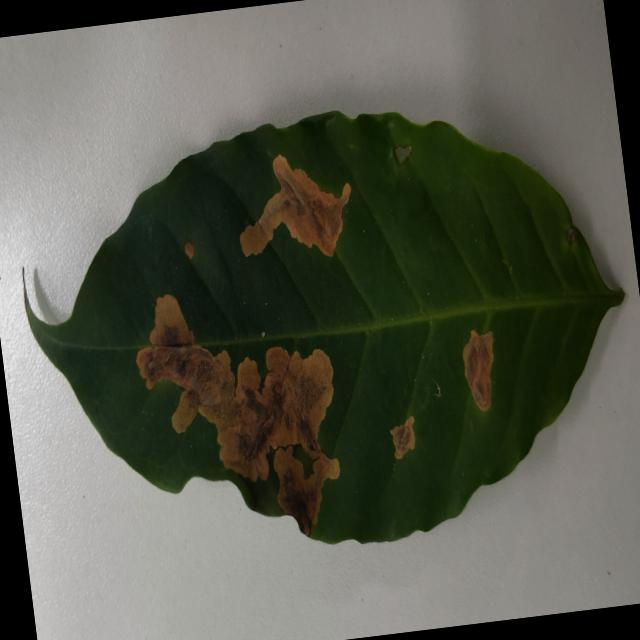KaratDaunKopi: (136, 294, 340, 533), (239, 154, 351, 256), (463, 329, 494, 410), (390, 415, 415, 458), (395, 145, 412, 163), (184, 238, 194, 258)
